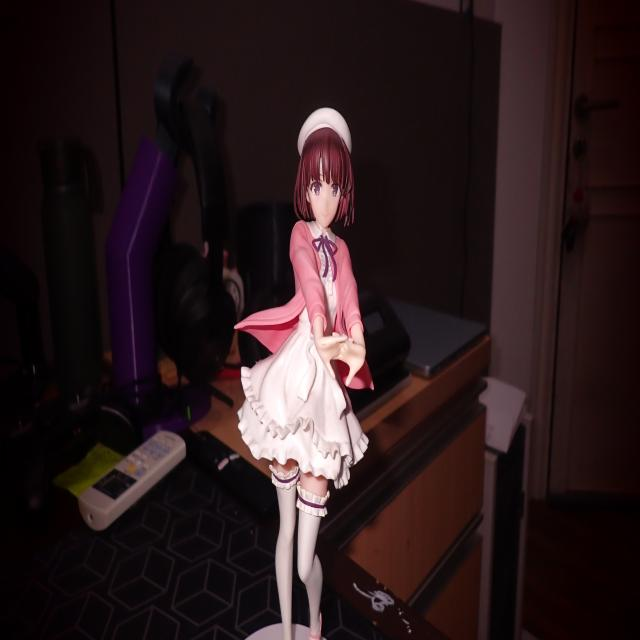My-pink-anime-figure: (237, 108, 372, 639)
